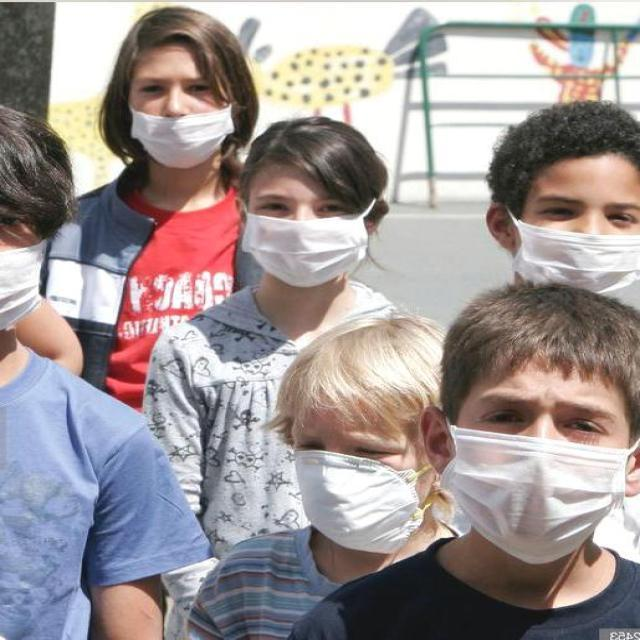hairnet: (116, 8, 250, 172)
